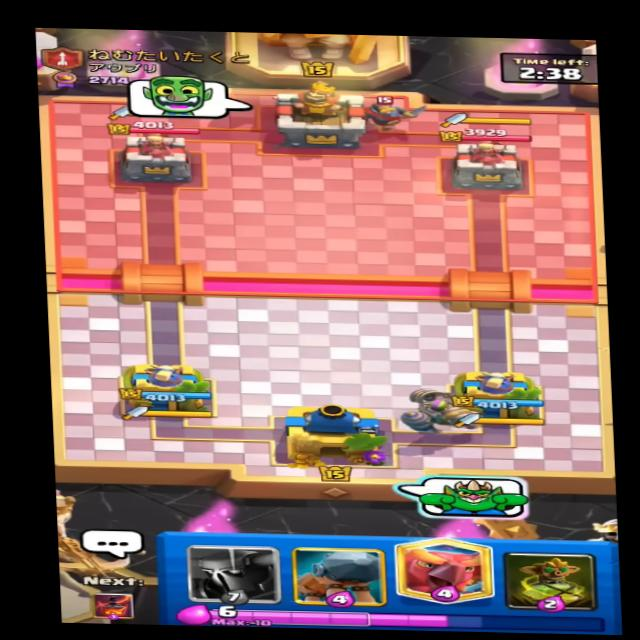knight: (359, 91, 420, 127)
